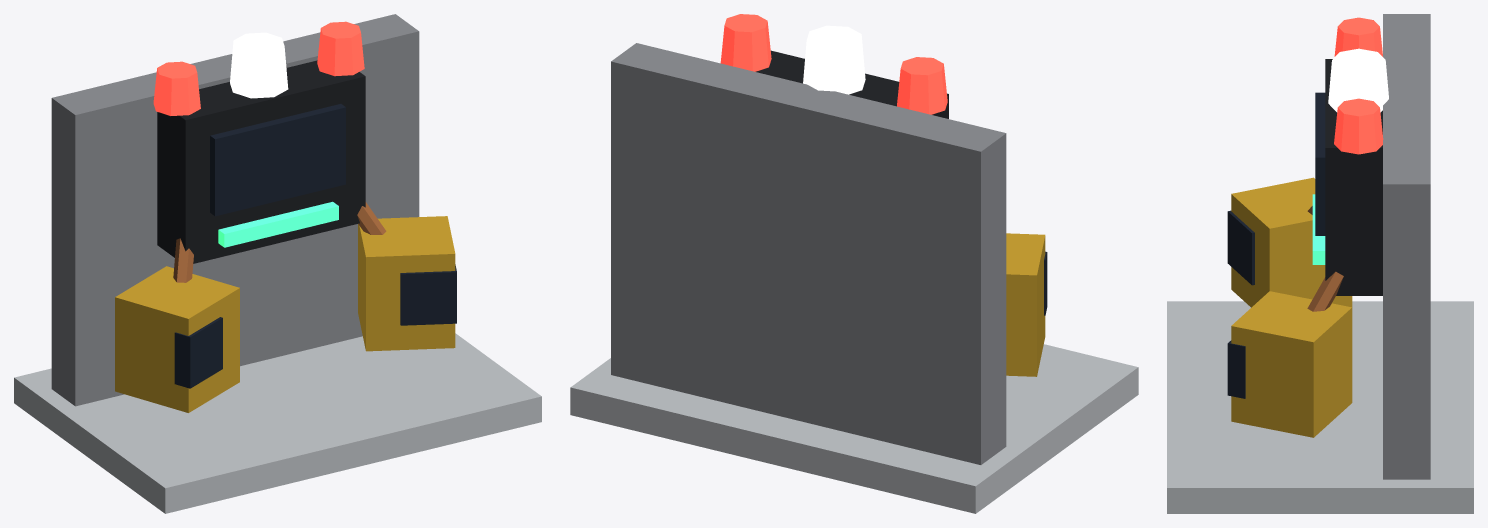
The model's file is cabin-hera-dosimetry.glb.
The picture shows the model from 3 angles, left to right: view 1: azimuth 30°, elevation 25°; view 2: azimuth 150°, elevation 25°; view 3: azimuth 270°, elevation 25°; orthographic projection. The views are drawn at different scales.
Parts seen in each view (by area): view 1: CabinHeraDosimetry_Titanium, CabinHeraDosimetry_Aluminum, CabinHeraDosimetry_FoilGold, CabinHeraDosimetry_HullBlack, CabinHeraDosimetry_Visor, CabinHeraDosimetry_LedRed, CabinHeraDosimetry_Lamp, CabinHeraDosimetry_LedGreen, CabinHeraDosimetry_Copper; view 2: CabinHeraDosimetry_Titanium, CabinHeraDosimetry_Aluminum, CabinHeraDosimetry_FoilGold, CabinHeraDosimetry_LedRed, CabinHeraDosimetry_Lamp, CabinHeraDosimetry_HullBlack; view 3: CabinHeraDosimetry_Aluminum, CabinHeraDosimetry_FoilGold, CabinHeraDosimetry_Titanium, CabinHeraDosimetry_HullBlack, CabinHeraDosimetry_Visor, CabinHeraDosimetry_LedRed, CabinHeraDosimetry_Lamp, CabinHeraDosimetry_Copper, CabinHeraDosimetry_LedGreen.
Part boxes in pixels (<box>): CabinHeraDosimetry_Titanium: <box>51,14,419,406</box>; CabinHeraDosimetry_Aluminum: <box>14,333,541,513</box>; CabinHeraDosimetry_FoilGold: <box>115,216,455,412</box>; CabinHeraDosimetry_HullBlack: <box>157,60,365,263</box>; CabinHeraDosimetry_Visor: <box>174,104,456,388</box>; CabinHeraDosimetry_LedRed: <box>153,21,364,115</box>; CabinHeraDosimetry_Lamp: <box>230,32,288,98</box>; CabinHeraDosimetry_LedGreen: <box>218,201,338,247</box>; CabinHeraDosimetry_Copper: <box>173,202,386,282</box>; CabinHeraDosimetry_Titanium: <box>611,43,1006,464</box>; CabinHeraDosimetry_Aluminum: <box>570,344,1138,513</box>; CabinHeraDosimetry_FoilGold: <box>1006,233,1045,376</box>; CabinHeraDosimetry_LedRed: <box>720,14,947,114</box>; CabinHeraDosimetry_Lamp: <box>803,25,865,94</box>; CabinHeraDosimetry_HullBlack: <box>755,50,948,118</box>; CabinHeraDosimetry_Aluminum: <box>1167,301,1473,513</box>; CabinHeraDosimetry_FoilGold: <box>1231,177,1352,437</box>; CabinHeraDosimetry_Titanium: <box>1383,14,1430,479</box>; CabinHeraDosimetry_HullBlack: <box>1325,59,1382,295</box>; CabinHeraDosimetry_Visor: <box>1227,92,1325,398</box>; CabinHeraDosimetry_LedRed: <box>1334,17,1383,154</box>; CabinHeraDosimetry_Lamp: <box>1328,48,1388,112</box>; CabinHeraDosimetry_Copper: <box>1307,206,1343,311</box>; CabinHeraDosimetry_LedGreen: <box>1312,194,1325,264</box>.
Size of the model in its own units: 0.46 by 0.415 by 0.32.
